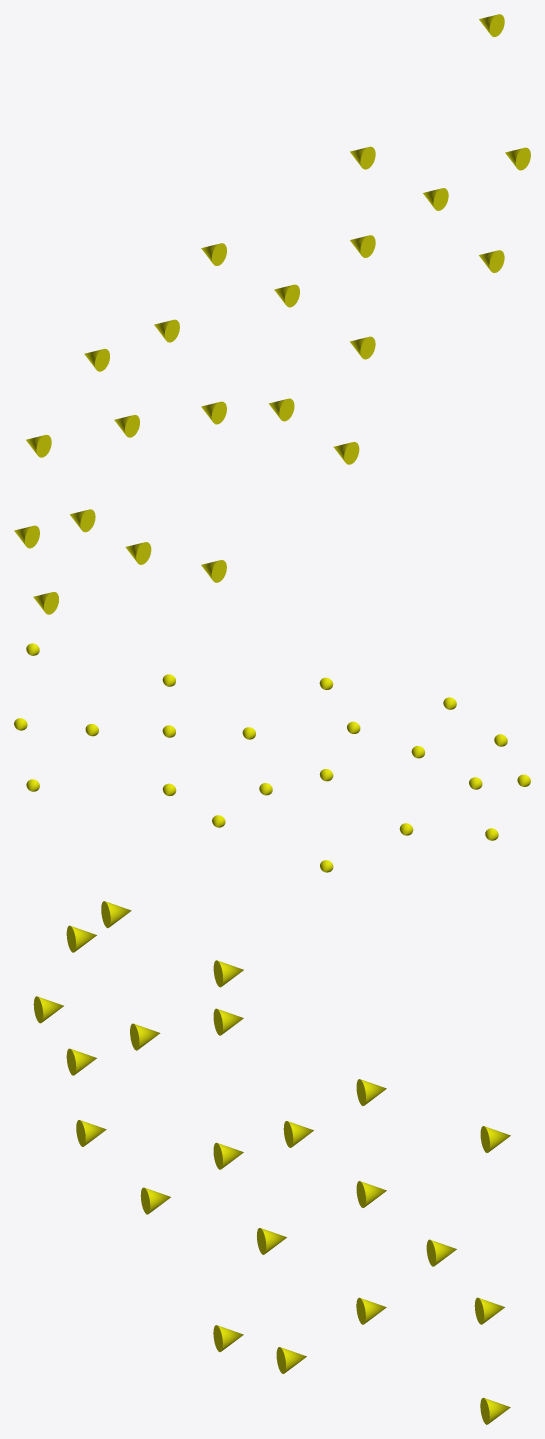
Rendered from zuankong.fbx.
The picture shows the model from 3 angles, top to bottom: view 1: azimuth 30°, elevation 25°; view 2: azimuth 150°, elevation 25°; view 3: azimuth 270°, elevation 25°; orthographic projection. The views are drawn at different scales.
Bounding box in the file's own units: 0.1471 × 0.0752 × 0.0774.
